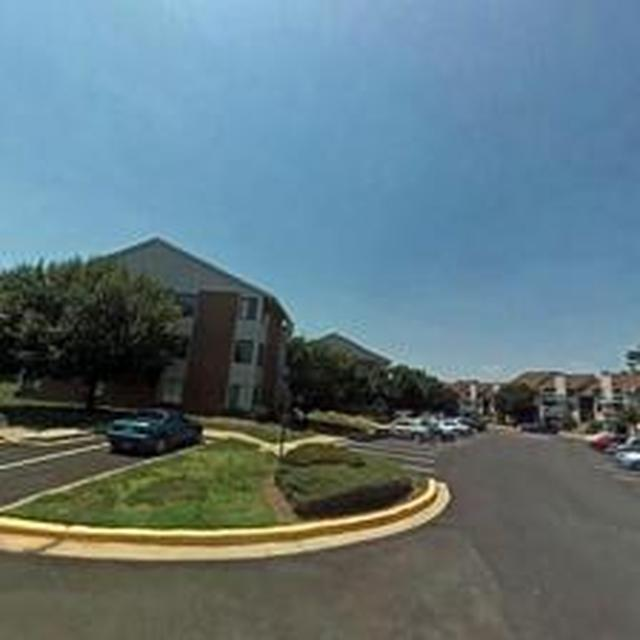building: (92, 238, 294, 414), (501, 365, 640, 436)
